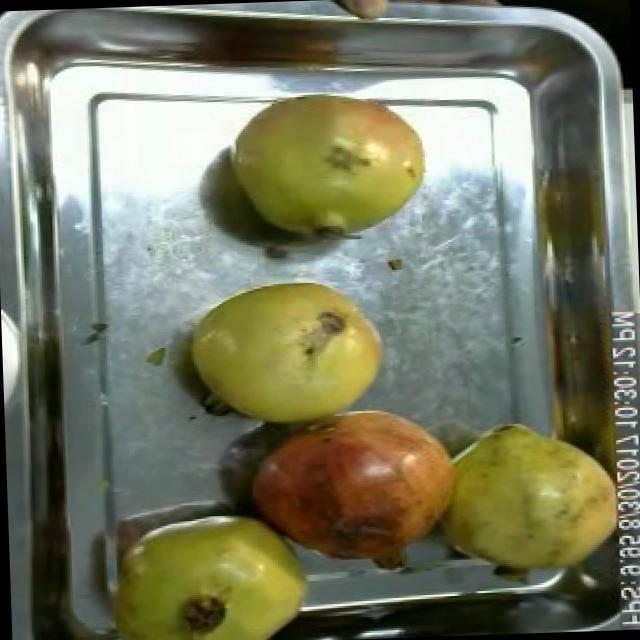fruit: (226, 388, 481, 590), (172, 263, 402, 445), (422, 409, 640, 588), (215, 83, 446, 250), (80, 492, 328, 640), (319, 0, 407, 26)
